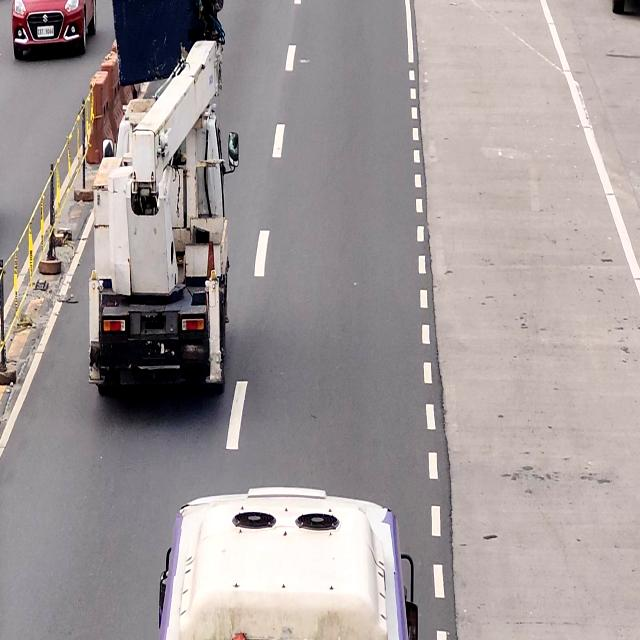Bus: (166, 490, 406, 640)
Truck: (92, 94, 223, 400)
